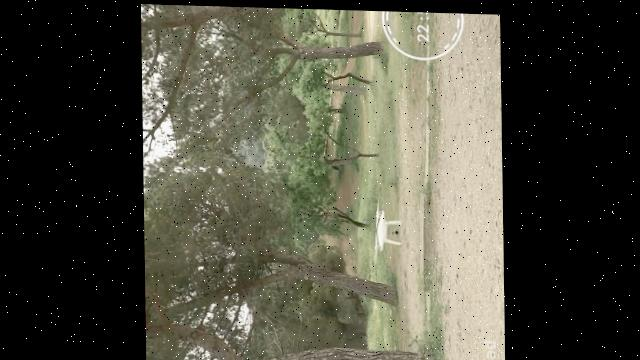drone: (371, 197, 402, 257)
